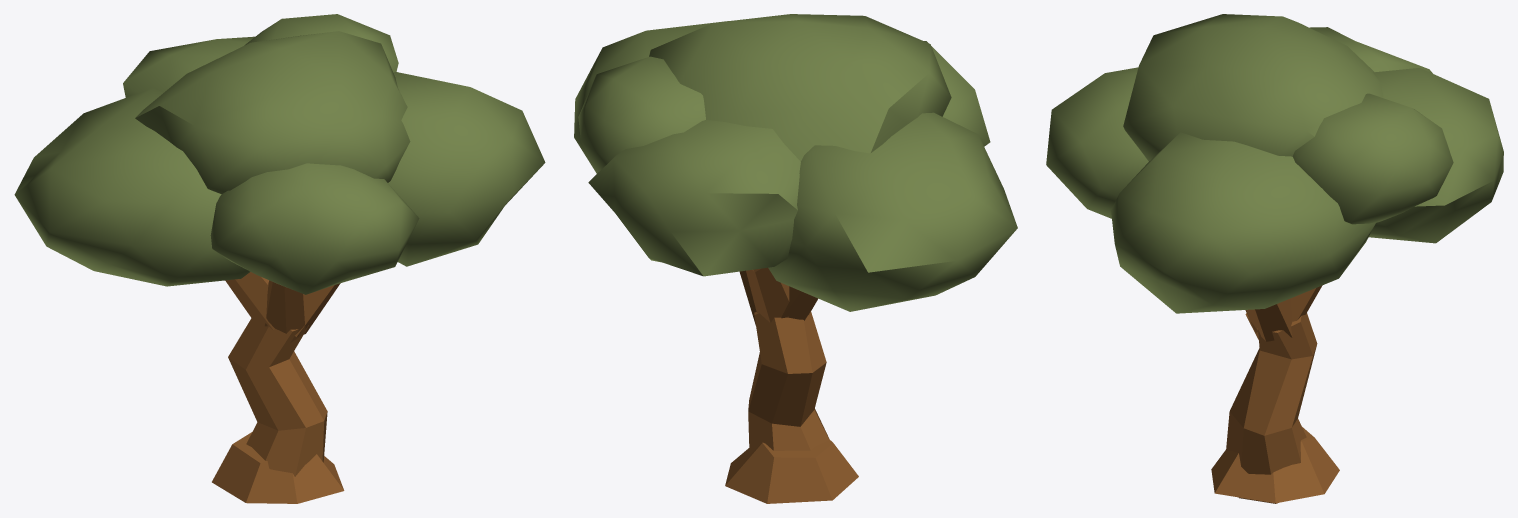
File: treeOlive.glb
3 renders of one model, left to right at view 1: azimuth 30°, elevation 25°; view 2: azimuth 150°, elevation 25°; view 3: azimuth 270°, elevation 25°, orthographic. The views are drawn at different scales.
Visible parts, largest first — view 1: treeOlive; view 2: treeOlive; view 3: treeOlive.
Boxes of the visible parts, x1,y1,x2,y2 form: treeOlive: [14, 14, 545, 503]; treeOlive: [574, 14, 1017, 503]; treeOlive: [1046, 14, 1503, 503].
Bounding box in the file's own units: 0.932 × 0.9001 × 0.8166.
